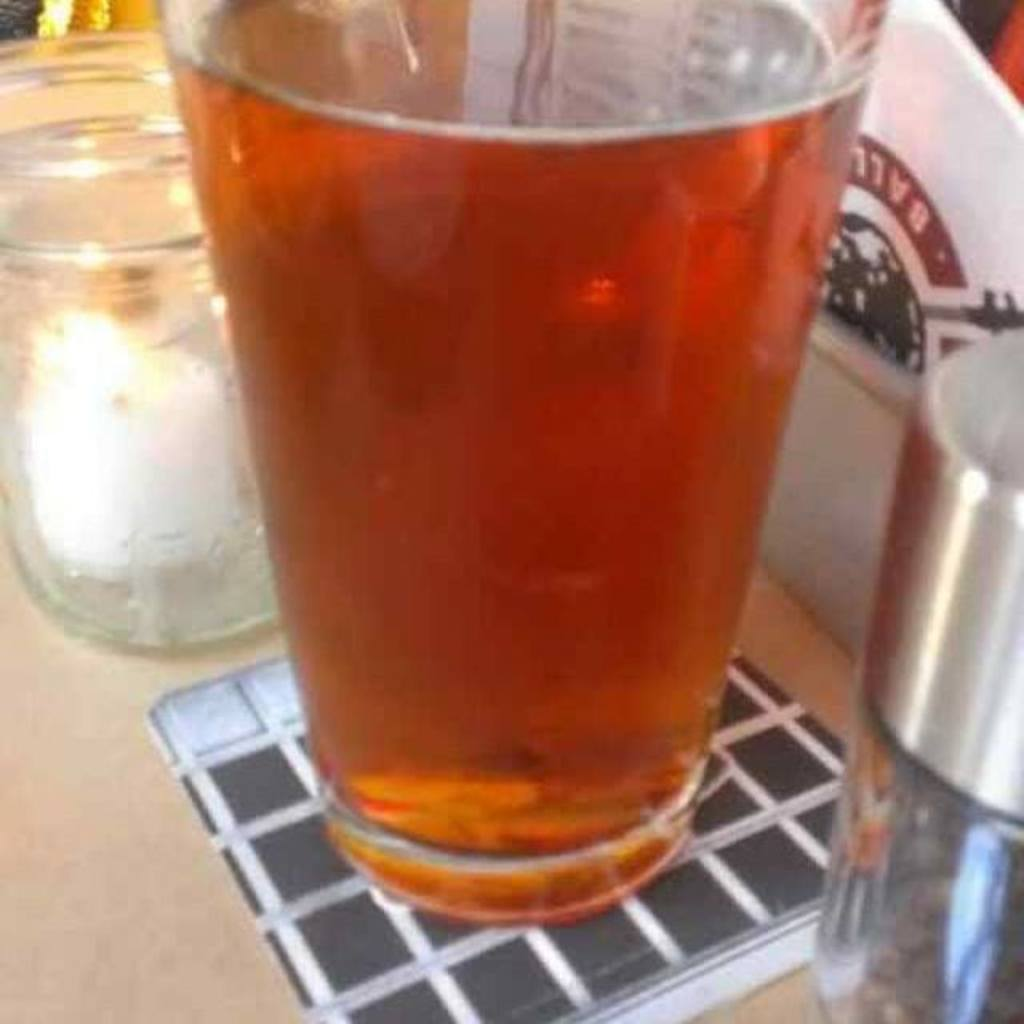Beer: (163, 11, 871, 875)
